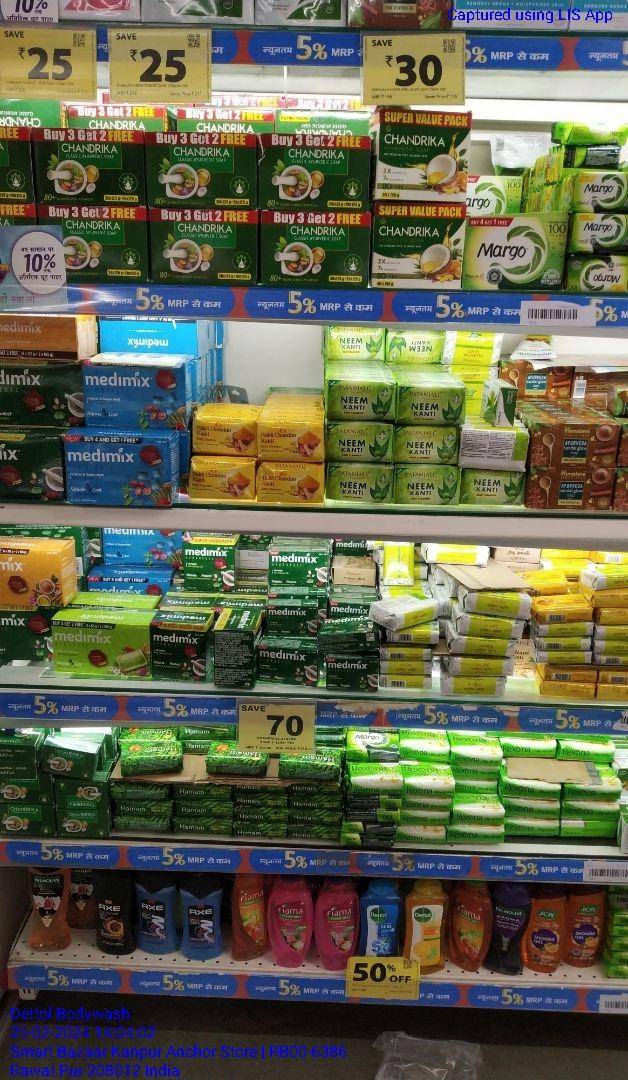Dettol_Bodywash_Cool: (364, 882, 401, 957)
Dettol_Bodywash_Refresh: (407, 882, 444, 973)
Fiama_Shower_Gel_Patchouli_and_Macadamia_250ML: (317, 876, 360, 970), (270, 875, 313, 965)
Joy_Shower_Gel_Mandarin_and_Lemongrass_250ML: (567, 883, 604, 967), (531, 883, 565, 974)
Palmolive_Aroma_Relax_250ML: (491, 883, 529, 974)
Palmolive_Luminous_Oils_With_White_Orchid_Shower_Gel_250ML: (28, 866, 70, 951)
